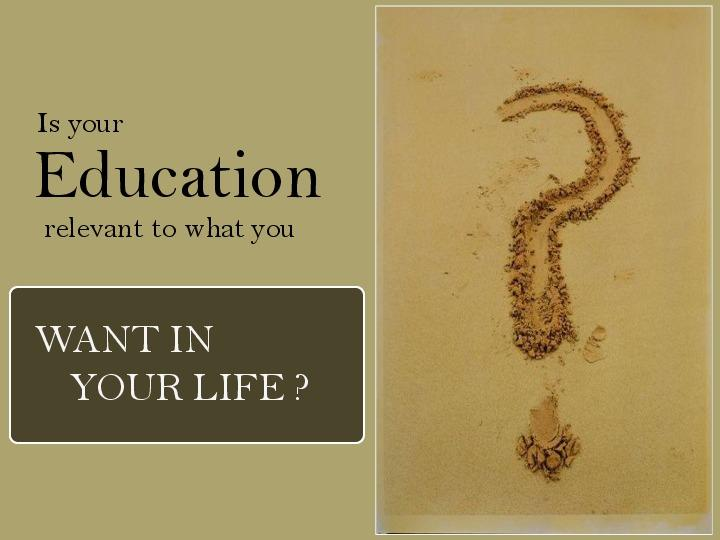title: (25, 102, 350, 446)
